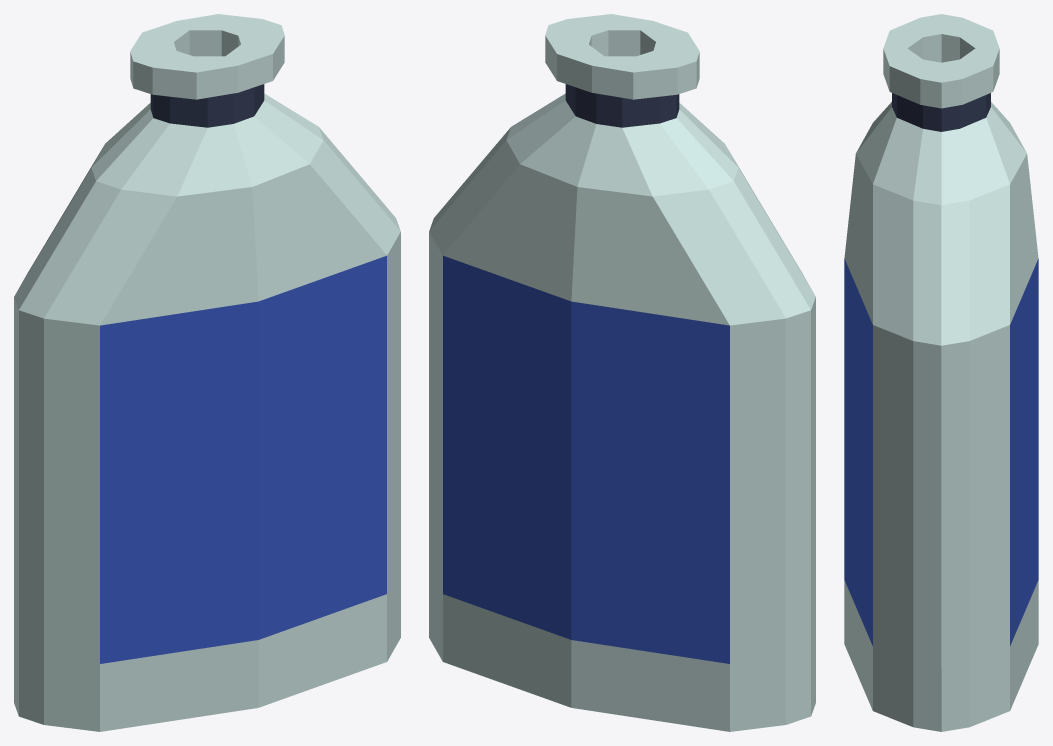
Rendered from Food_Bottle.fbx.
The picture shows the model from 3 angles, left to right: view 1: azimuth 30°, elevation 25°; view 2: azimuth 150°, elevation 25°; view 3: azimuth 270°, elevation 25°; orthographic projection. The views are drawn at different scales.
Parts seen in each view (by area): view 1: Cylinder.012; view 2: Cylinder.012; view 3: Cylinder.012.
Boxes of the visible parts, x1,y1,x2,y2 form: Cylinder.012: (14,14,400,731); Cylinder.012: (429,14,815,731); Cylinder.012: (844,14,1038,731).
Size of the model in its own units: 12.59 by 20 by 5.9.
